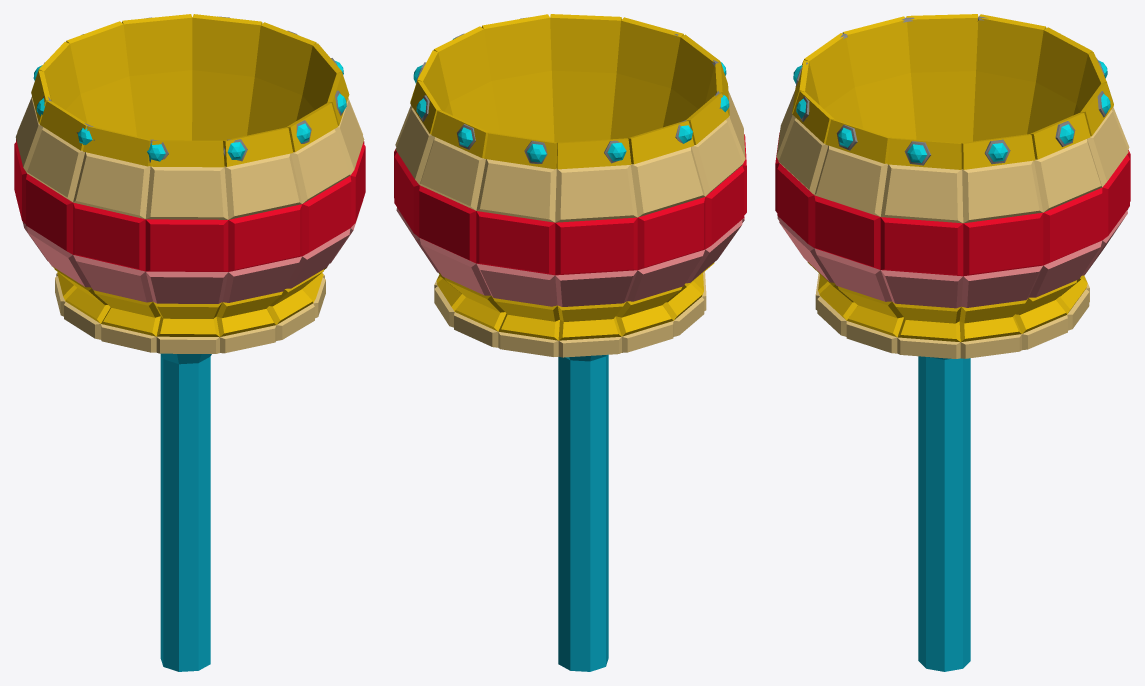
The model's file is Models.fbx.
3 renders of one model, left to right at view 1: azimuth 30°, elevation 25°; view 2: azimuth 150°, elevation 25°; view 3: azimuth 270°, elevation 25°, orthographic.
Parts seen in each view (by area): view 1: pCylinder1, holder1; view 2: pCylinder1, holder1; view 3: pCylinder1, holder1.
Part boxes in pixels (x1,y1,x2,y2): pCylinder1: [14, 14, 365, 353]; holder1: [160, 353, 211, 671]; pCylinder1: [394, 14, 746, 357]; holder1: [558, 354, 608, 671]; pCylinder1: [775, 14, 1130, 358]; holder1: [918, 356, 970, 671].
Size of the model in its own units: 4.42 by 8.04 by 4.41.
